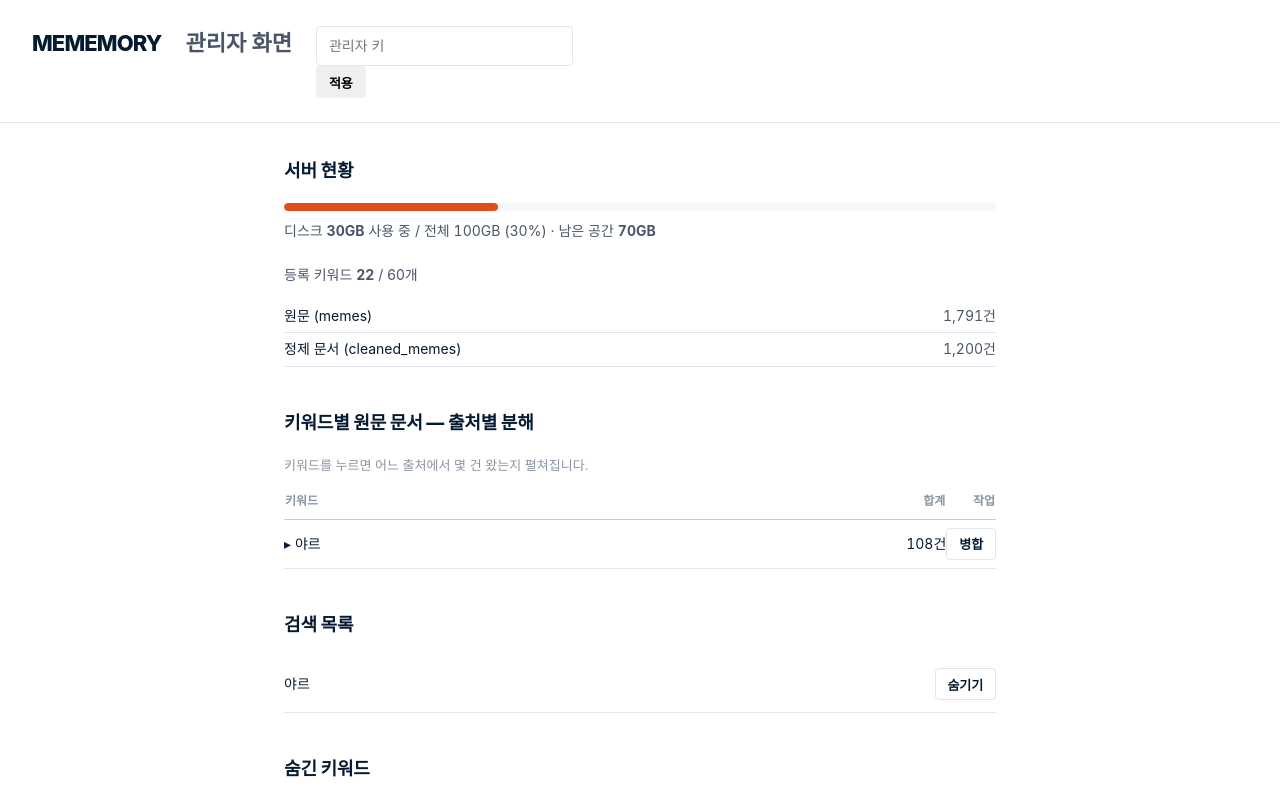
AdminPage › 키워드 행을 누르면 출처별 문서 수가 펼쳐진다
Check: the text "108건" is shown, box [600,519,946,568]
Check: the text "디시인사이드" is not shown
Step 1. Click the row with class "admin-source-table__row" → (640, 544), box [284,519,996,568]
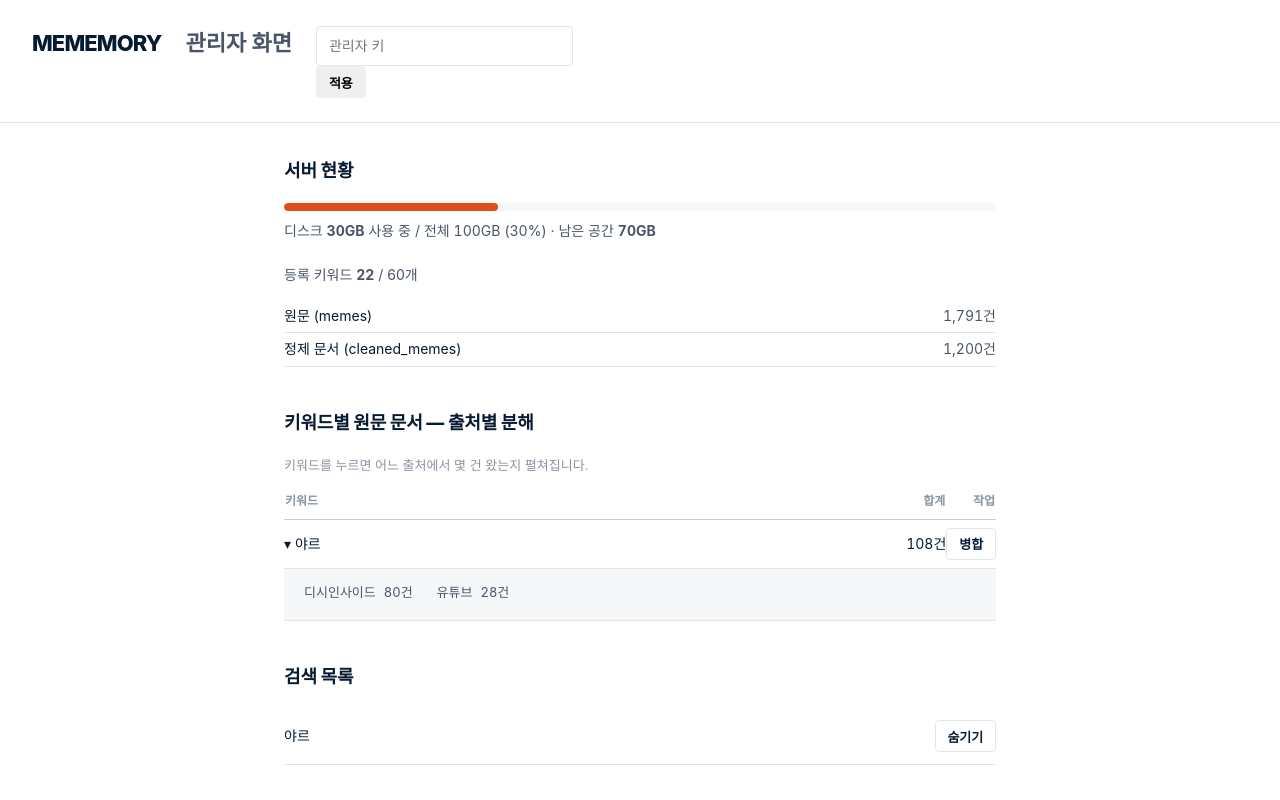
Check: the text "디시인사이드" is shown, box [304,581,376,604]
Check: the text "80건" is shown, box [384,581,413,604]
Check: the text "유튜브" is shown, box [437,581,472,604]
Step 2. Click the row with class "admin-source-table__row" → (640, 544), box [284,519,996,568]
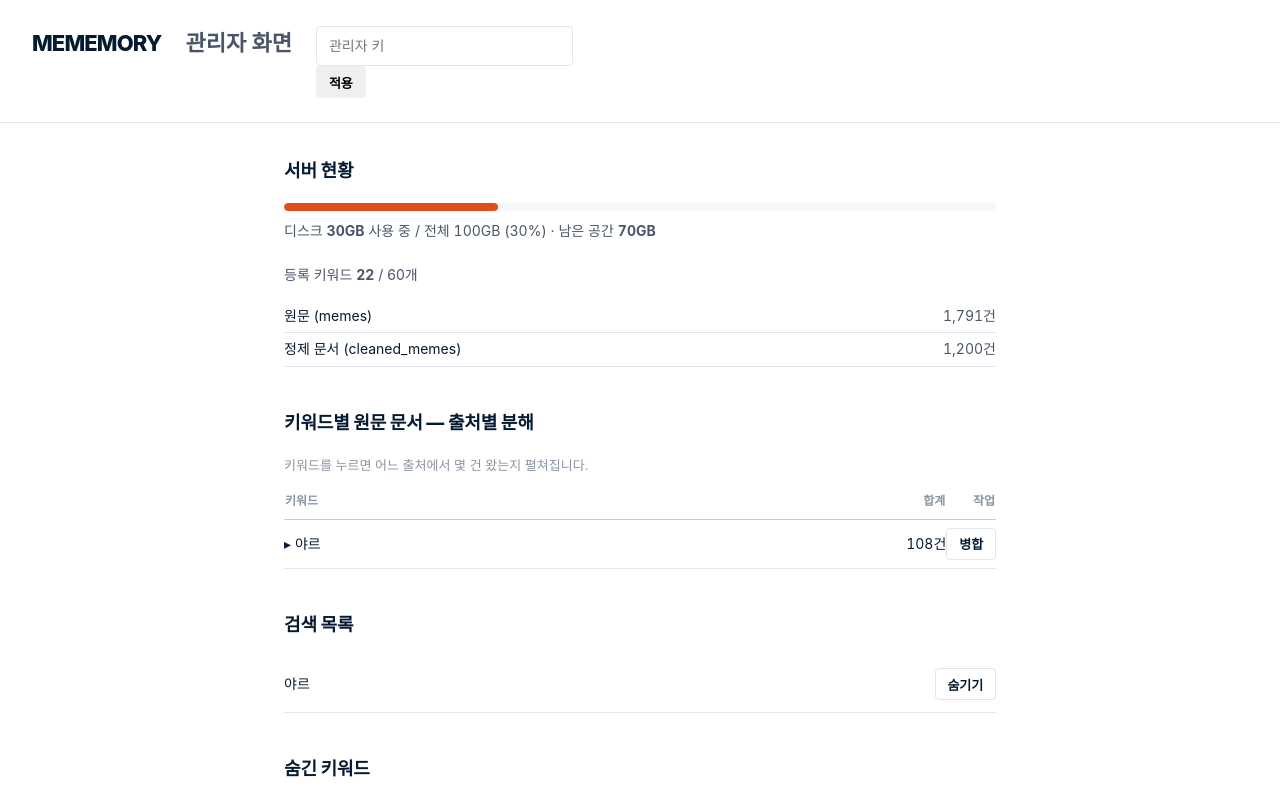
Check: the text "디시인사이드" is gone
